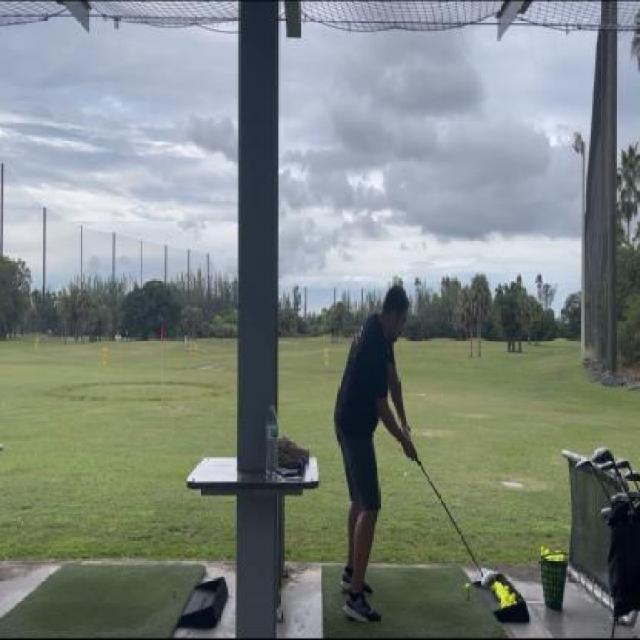club head: (478, 568, 496, 590)
